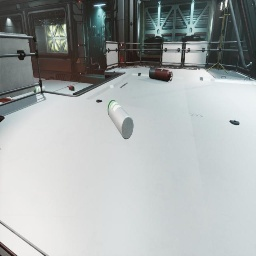0: (108, 100, 134, 140), (33, 86, 45, 93), (0, 99, 1, 100)
EmergencyPhone ,: (219, 62, 220, 68)
FireAlarm ,: (121, 57, 123, 62), (28, 42, 29, 43)
FireExtinguisher ]: (67, 85, 74, 91)
NitrogenTank ,: (149, 68, 173, 82)
SafetySwitchPanel ,: (216, 36, 224, 60), (76, 47, 80, 63)
